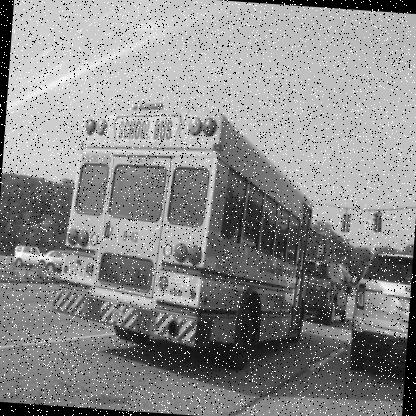Car: (350, 254, 413, 375), (302, 262, 350, 324), (14, 246, 48, 270), (46, 252, 63, 274)
